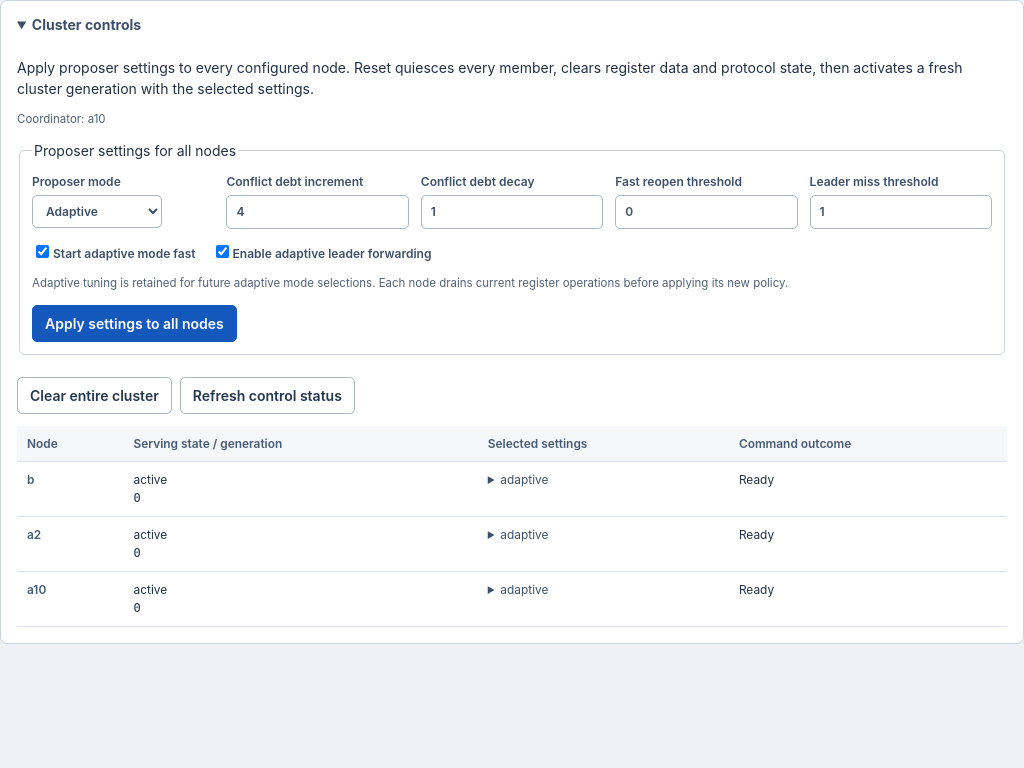
ClusterControls › applies every policy field through the ordinal-first coordinator rather than the selected host
Select "Fast + leadered" in the dropdown labelled "Proposer mode" at (97, 212), box [32,195,162,228]
Click the checkbox labelled "Start adaptive mode fast".
click(42, 252)  # box [36,245,49,258]
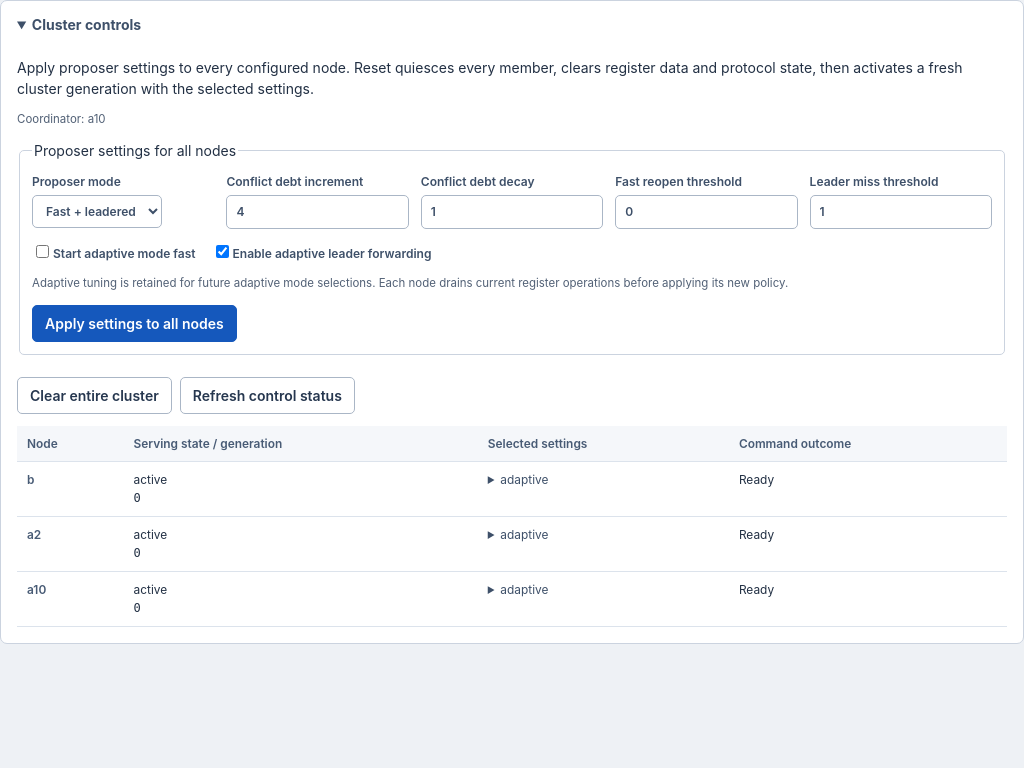
Click the checkbox labelled "Enable adaptive leader forwarding".
click(222, 252)  # box [216,245,229,258]
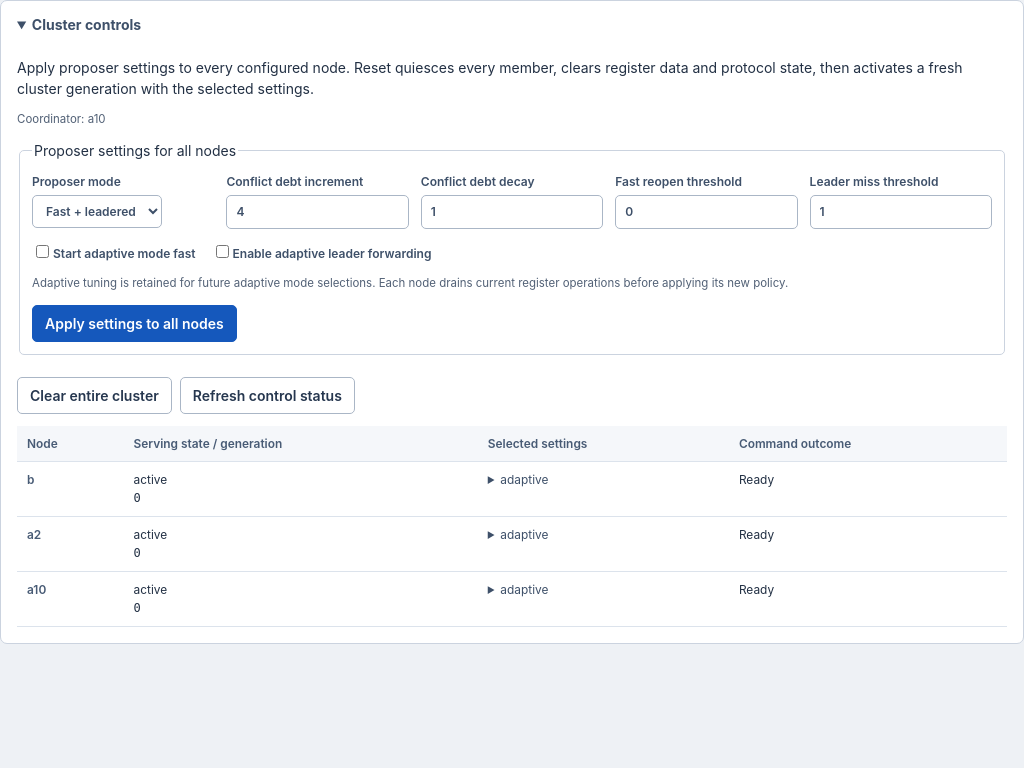
Replace the text in the number field labelled "Conflict debt increment" with "7" at (318, 212), box [226,195,409,229]
Replace the text in the number field labelled "Conflict debt decay" with "2" at (512, 212), box [421,195,603,229]
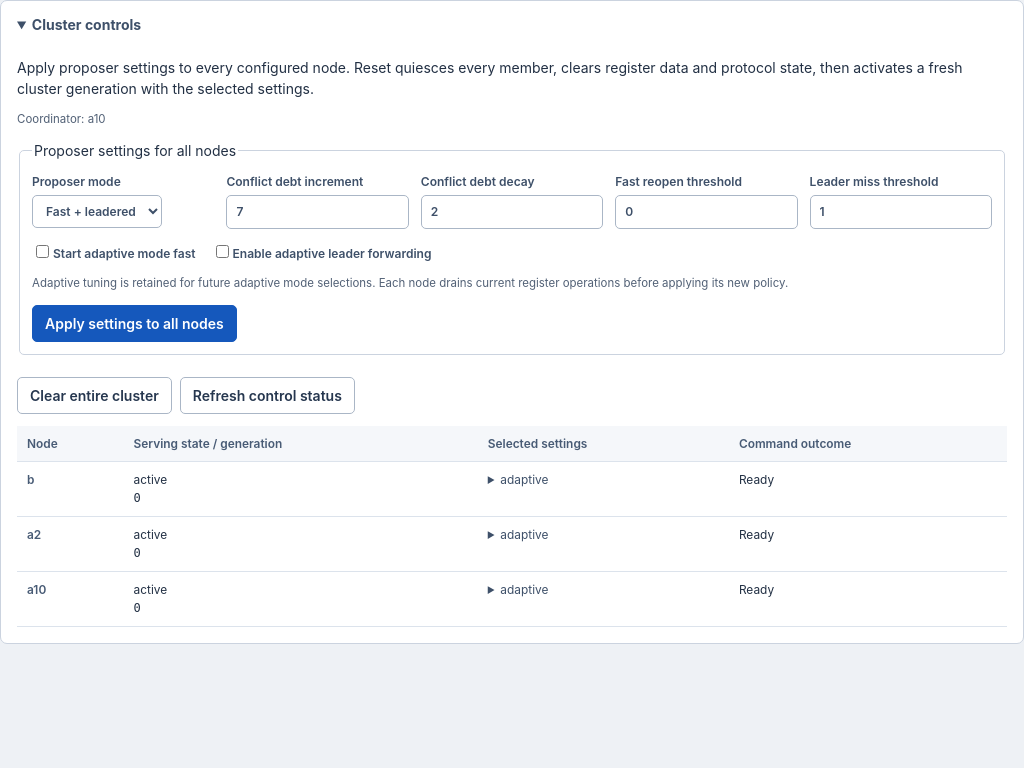
Replace the text in the number field labelled "Fast reopen threshold" with "3" at (706, 212), box [615,195,798,229]
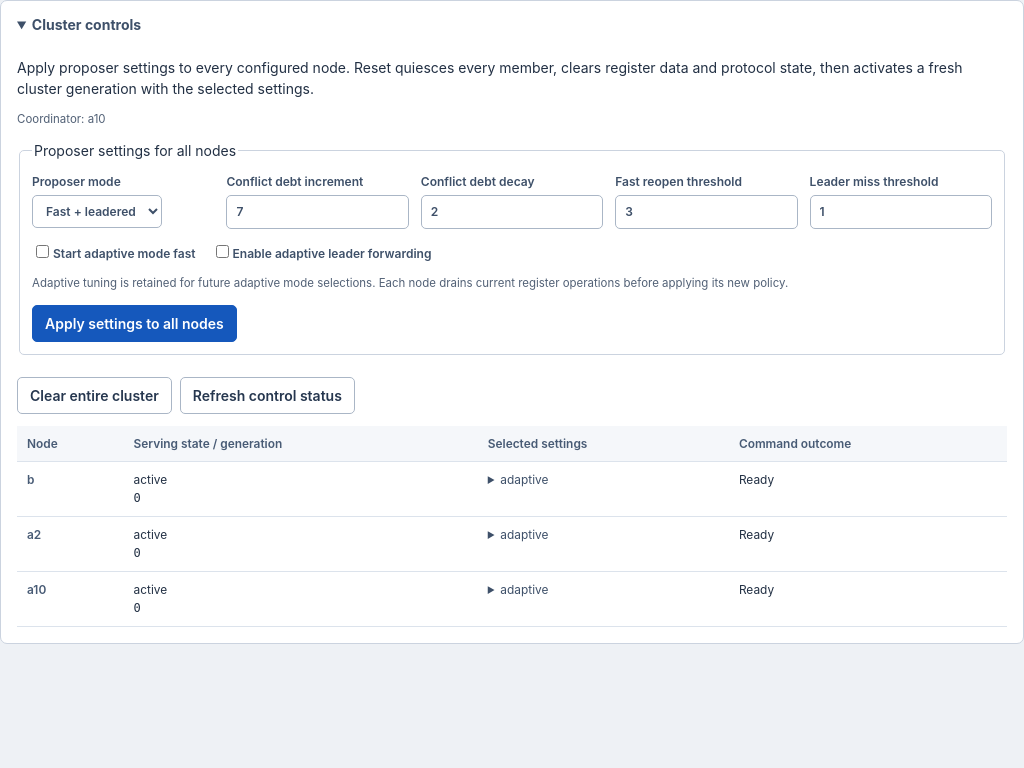
Replace the text in the number field labelled "Leader miss threshold" with "5" at (901, 212), box [810,195,992,229]
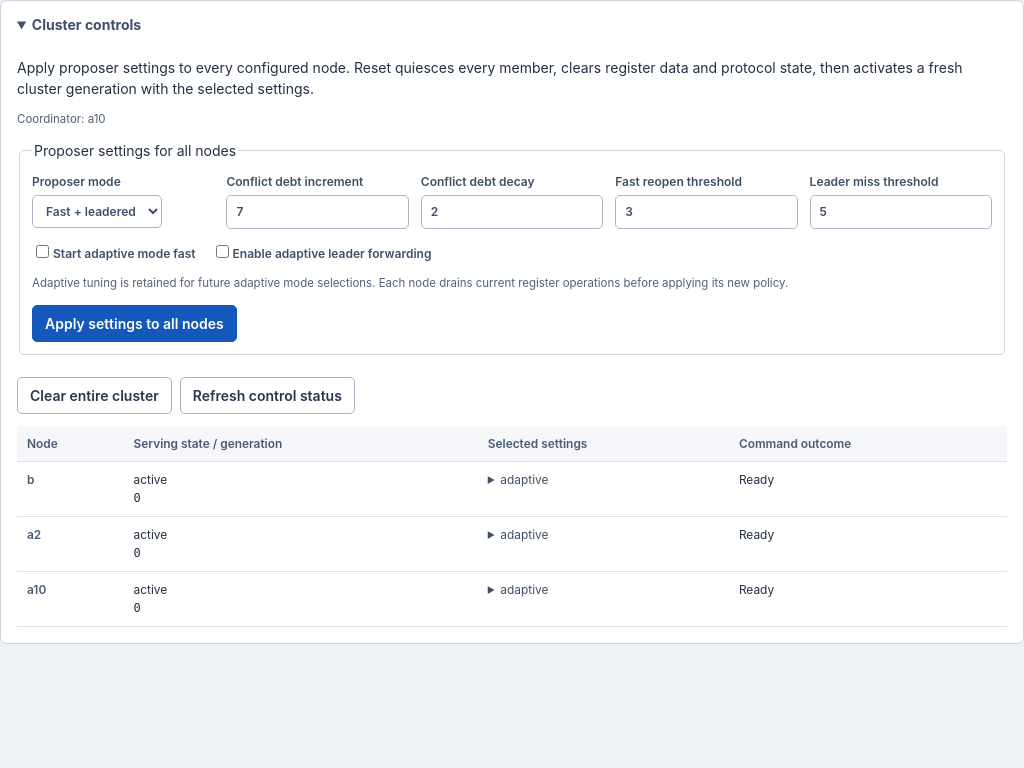
Click the button "Apply settings to all nodes".
click(134, 323)  # box [32,305,237,342]
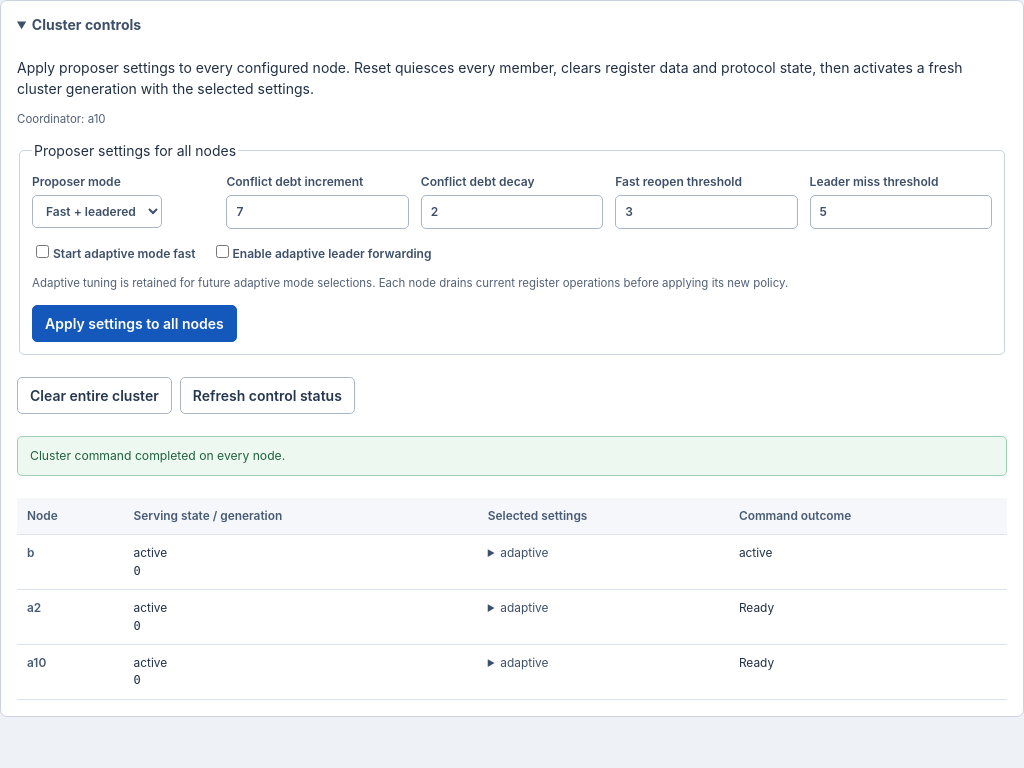
Expected: the message reads "Cluster command completed on every node.", [30,448,285,463]
